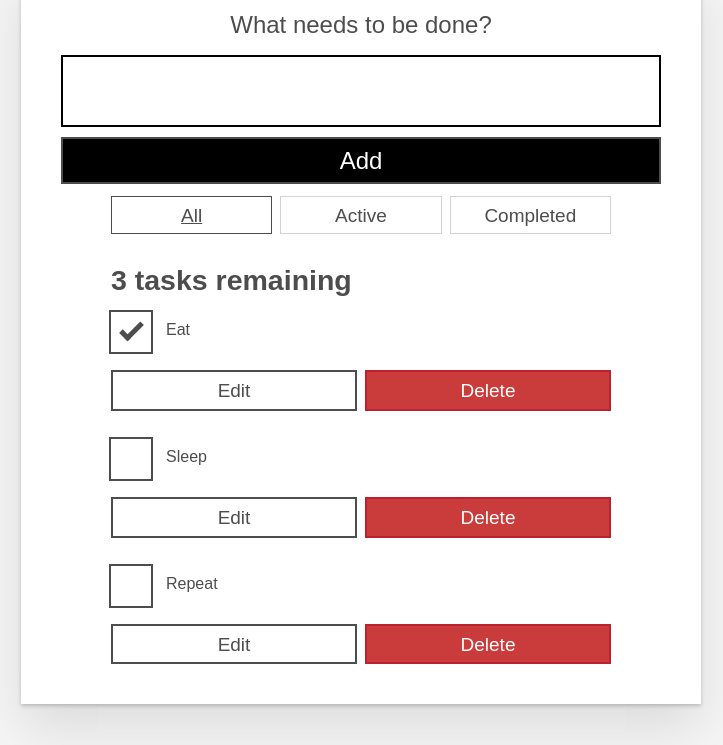
Test: App › can remove a task
The width and height of the screenshot is (723, 745).
Type "new test task" into the field. click: (361, 91)
box: [61,55,661,127]
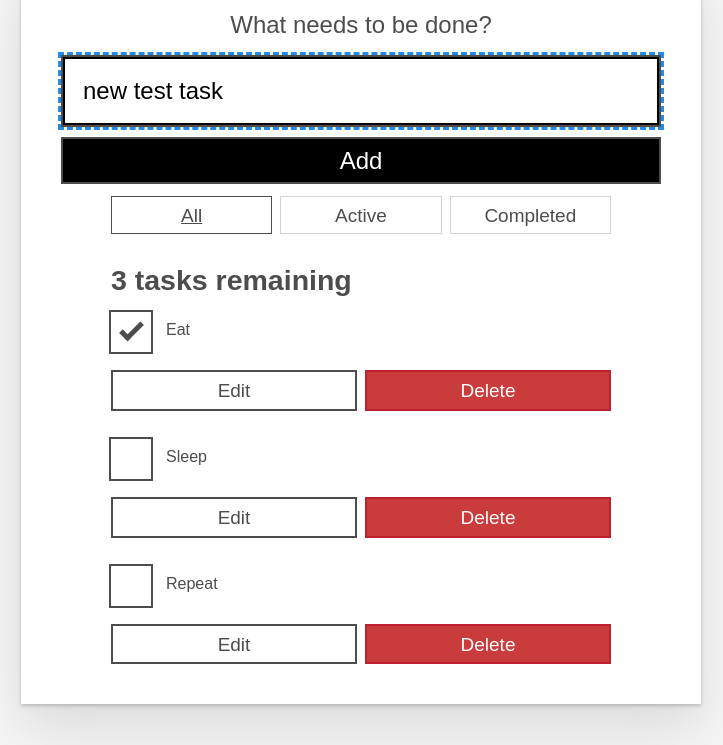
Click the button "Add". click: (361, 160)
box: [61,137,661,184]
(page scrolled)
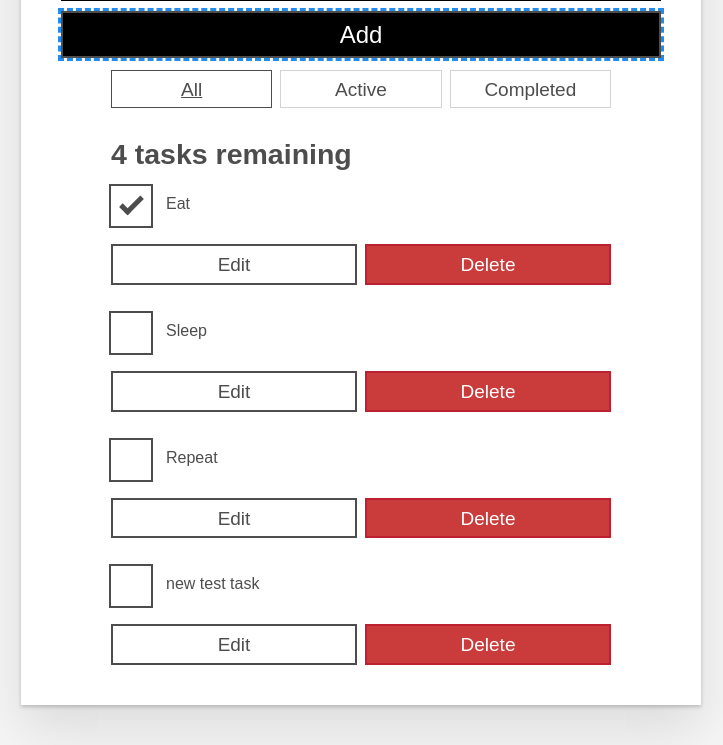
Click the button "Delete" below "new test task". click: (488, 645)
box: [365,624,611,665]
(page scrolled)
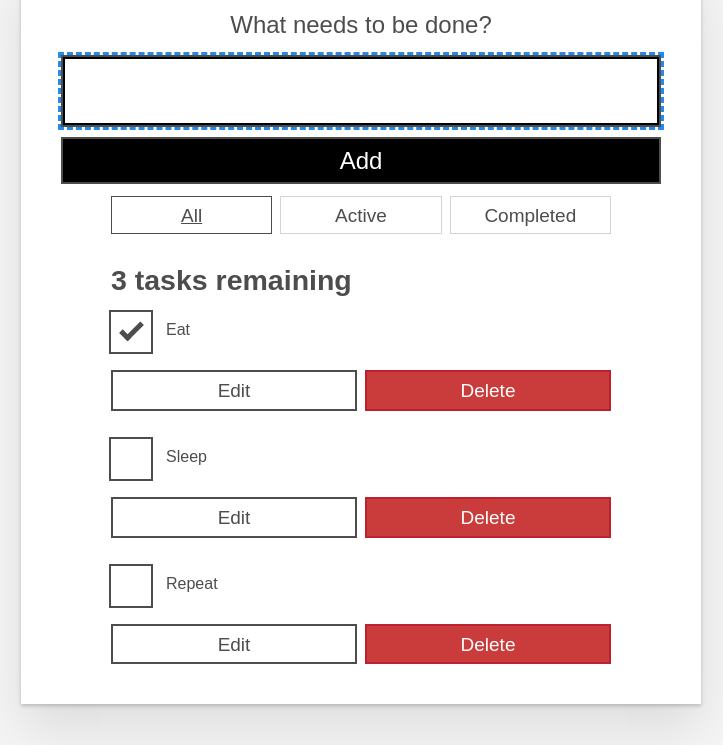
Check: the checkbox "new test task" is gone
